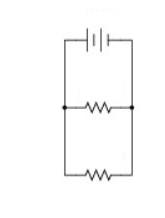resistor: (74, 90, 121, 123), (79, 161, 116, 186)
